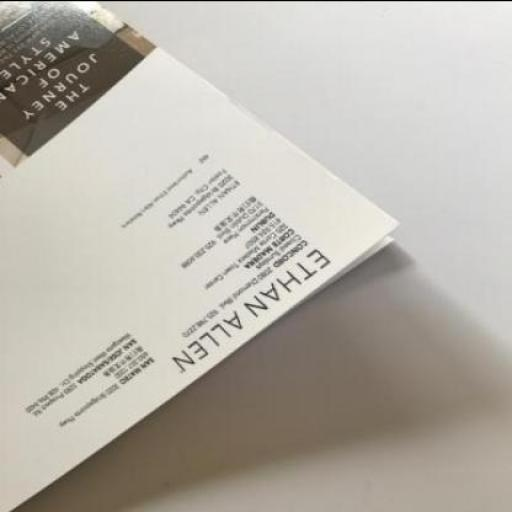paper: (2, 1, 408, 511)
